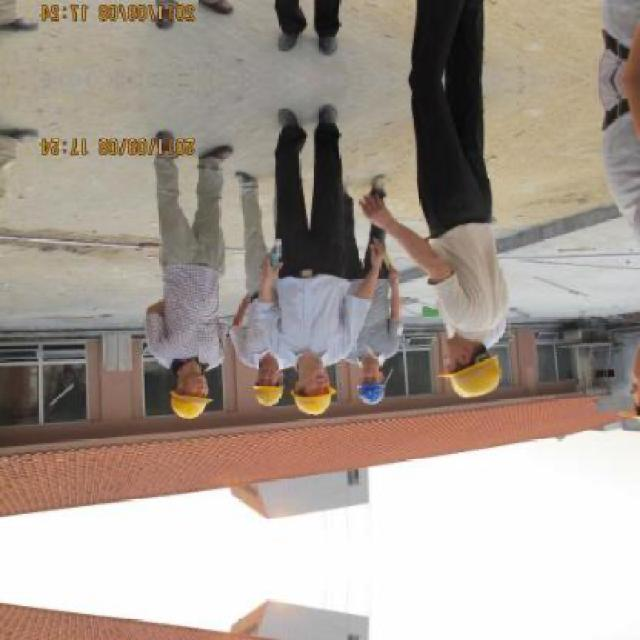con casco: (420, 336, 524, 403), (165, 364, 224, 436), (295, 343, 343, 426), (350, 366, 405, 412), (247, 357, 282, 412)
